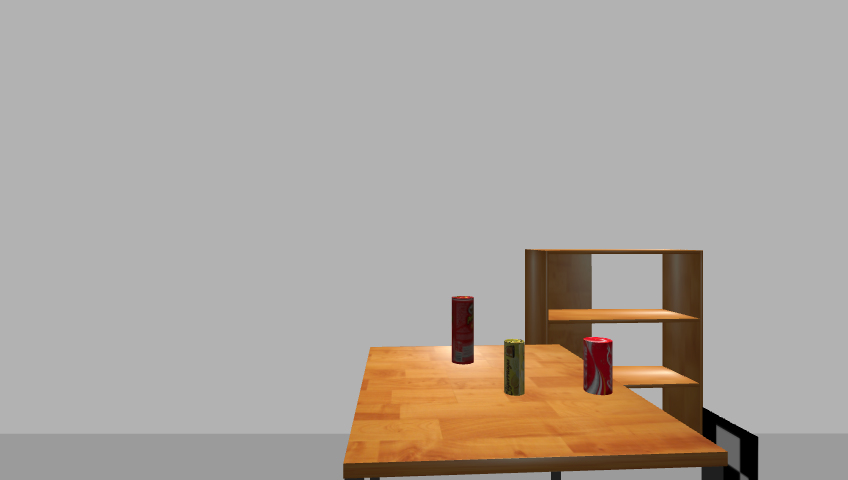aruco marker: (698, 407, 763, 480)
biscuits pack: (504, 340, 525, 397)
bookshelf: (520, 246, 713, 480)
coke can: (581, 338, 615, 396)
dinner table: (337, 344, 730, 480)
pringles can: (450, 295, 476, 366)
